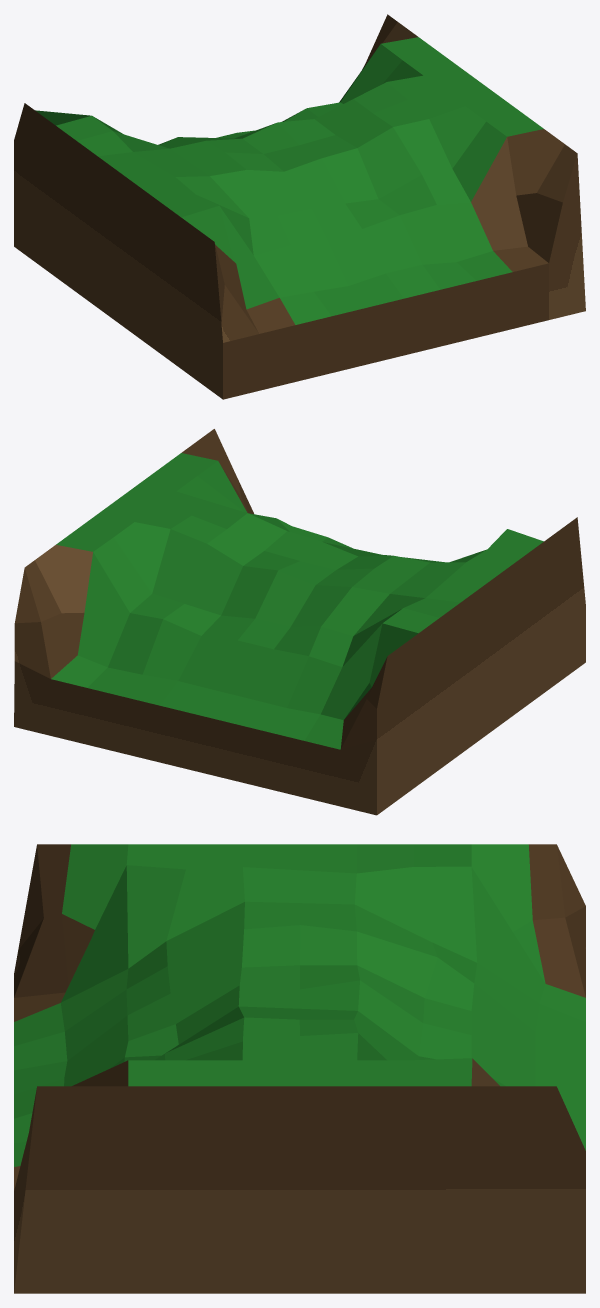
The model's file is Elev_Bridge.fbx.
3 views of the same model, one above another, from view 1: azimuth 30°, elevation 25°; view 2: azimuth 150°, elevation 25°; view 3: azimuth 270°, elevation 25° (orthographic). The views are drawn at different scales.
Visible parts, largest first — view 1: Elev_Bridge; view 2: Elev_Bridge; view 3: Elev_Bridge.
Part boxes in pixels (x1,y1,x2,y2): Elev_Bridge: [14, 14, 585, 399]; Elev_Bridge: [14, 429, 585, 815]; Elev_Bridge: [14, 844, 585, 1293].
Size of the model in its own units: 200 by 81.76 by 200.
